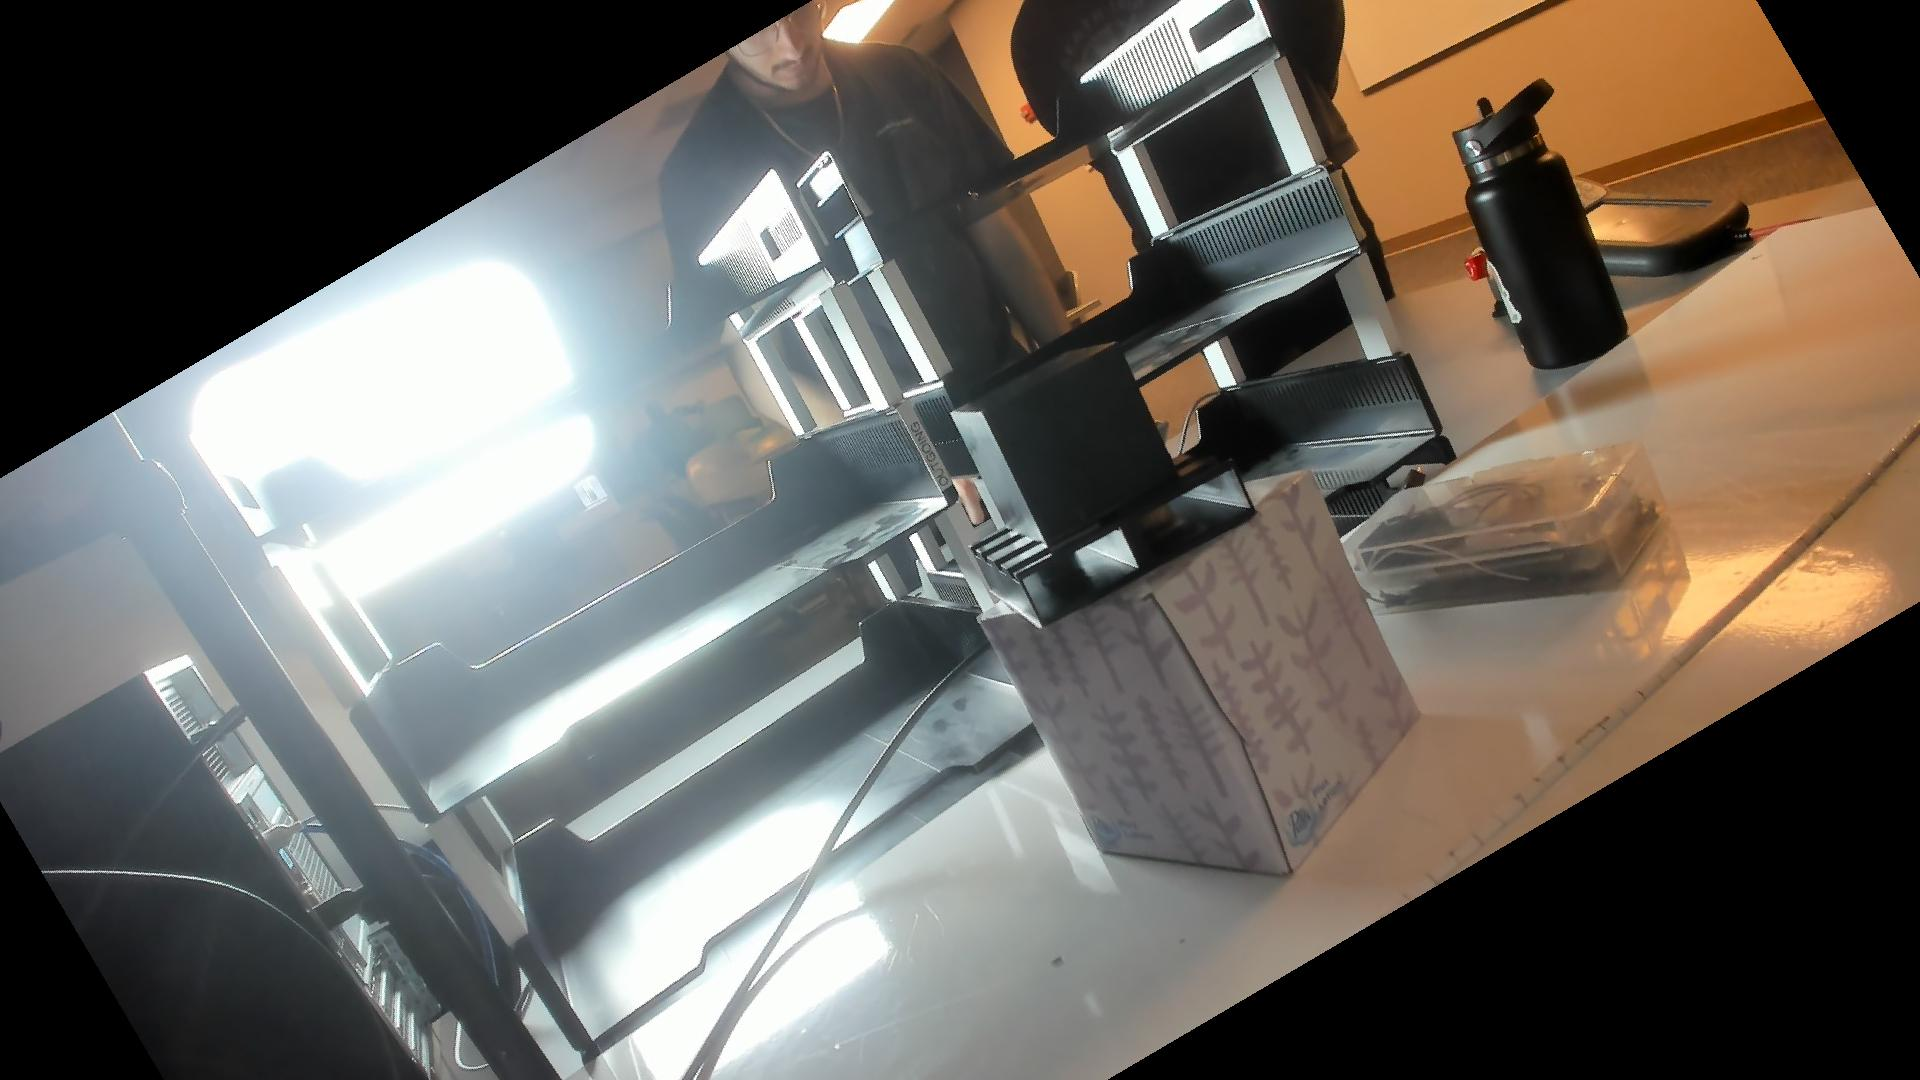black pallet: (940, 335, 1271, 638)
